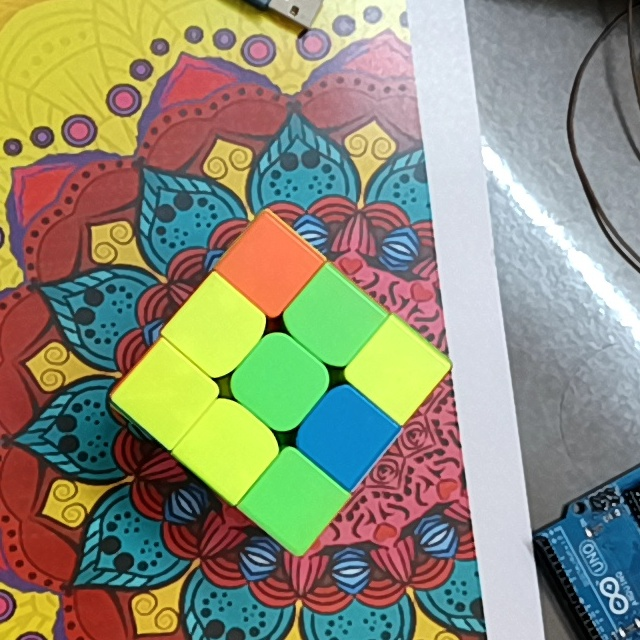tile: (317, 408, 374, 460), (253, 356, 310, 408), (191, 301, 245, 355), (266, 475, 320, 529), (139, 367, 193, 421), (305, 294, 360, 347), (201, 422, 256, 475), (371, 345, 424, 395), (243, 241, 295, 290)
